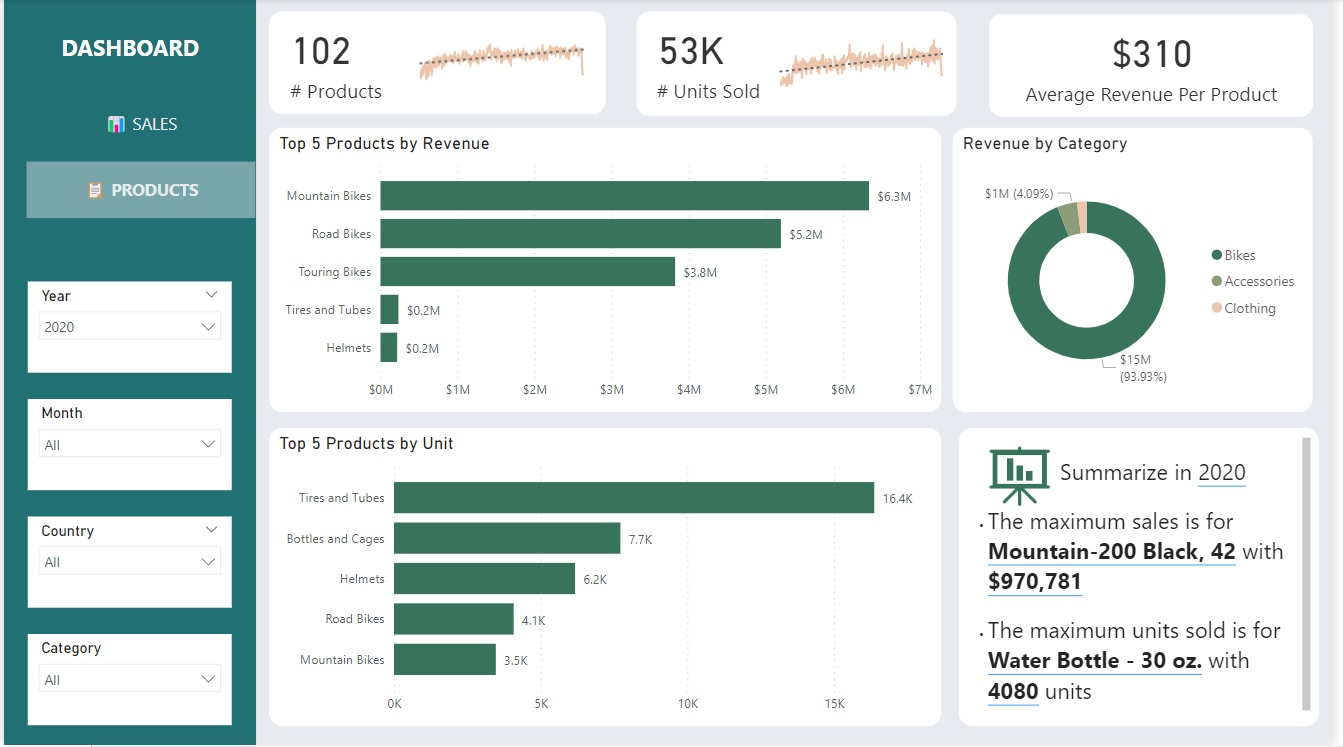

The dashboard page shown, as its layout file describes it:
{"tool":"powerbi","page":{"name":"📋  PRODUCTS","canvas":[1280,720],"ordinal":1},"visuals":[{"type":"shape","box":[0,0,242.9,720.4],"z":0},{"type":"advanceCardE03760C5AB684758B56AA29F9E6C257B","fields":{"mainMeasure":["0_Measure.NOProduct"]},"box":[255.2,12.1,325.1,99.4],"z":0,"group":"g2"},{"type":"advanceCardE03760C5AB684758B56AA29F9E6C257B","fields":{"mainMeasure":["0_Measure.Unitsold"]},"box":[610.2,12.1,309,100.8],"z":0,"group":"g1"},{"type":"advanceCardE03760C5AB684758B56AA29F9E6C257B","fields":{"mainMeasure":["0_Measure.AVG Rev per Pro"]},"box":[949.8,14.8,313,99.4],"z":1000},{"type":"lineChart","fields":{"Y":["0_Measure.Unitsold"],"Category":["DimCalendar.Date.Variation.Date Hierarchy.Year","DimCalendar.Date.Variation.Date Hierarchy.Quarter","DimCalendar.Date.Variation.Date Hierarchy.Month","DimCalendar.Date.Variation.Date Hierarchy.Day"]},"box":[734.1,18.8,185.5,74.9],"z":1000,"group":"g1"},{"type":"lineChart","fields":{"Category":["DimCalendar.Date.Variation.Date Hierarchy.Year","DimCalendar.Date.Variation.Date Hierarchy.Quarter","DimCalendar.Date.Variation.Date Hierarchy.Month","DimCalendar.Date.Variation.Date Hierarchy.Day"],"Y":["0_Measure.NOProduct"]},"box":[386.9,22.8,186.7,71.2],"z":1000,"group":"g2"},{"type":"slicer","fields":{"Values":["DimCalendar.Year"]},"box":[22.6,272.6,196.6,88],"z":2000},{"type":"slicer","fields":{"Values":["DimMonth.MonthShort"]},"box":[22.6,385.9,196.6,88],"z":3000},{"type":"slicer","fields":{"Values":["DimCustomer.Country"]},"box":[22.6,499.3,196.6,88],"z":4000},{"type":"slicer","fields":{"Values":["DimCategory.Category"]},"box":[22.6,612.7,196.6,88],"z":5000},{"type":"pageNavigator","box":[22.3,93.2,221.2,118.3],"z":6000},{"type":"textbox","box":[9.6,26.5,224.3,47],"z":7000},{"type":"textbox","box":[920.9,413.6,347.2,287.7],"z":8000,"group":"g3"},{"type":"donutChart","title":"Revenue by Category","fields":{"Y":["0_Measure.Revenue"],"Category":["DimCategory.Category"]},"box":[915.7,124.3,347.2,274],"z":9000},{"type":"barChart","title":"Top 5 Products by Revenue","fields":{"Y":["0_Measure.Revenue"],"Category":["DimSub_Category.Sub Category"]},"box":[255.3,124.3,648.5,274],"z":10000},{"type":"group","id":"g1","title":"Group 1","box":[610.2,12.1,309.4,100.8],"z":11000},{"type":"group","id":"g2","title":"Group 2","box":[255.2,12.1,325.1,99.4],"z":12000},{"type":"barChart","title":"Top 5 Products by Unit","fields":{"Category":["DimSub_Category.Sub Category"],"Y":["0_Measure.Unitsold"]},"box":[255.3,413.6,648.5,287.7],"z":13000},{"type":"image","box":[937.9,413.6,83.4,91.9],"z":14000,"group":"g3"},{"type":"group","id":"g3","title":"Group 3","box":[920.9,413.6,347.2,287.7],"z":14001}]}

Visuals, with their boxes in screenshot pixels (x1, y1, x2, y2), scaled from the page's 1280x720 canvas onto the 1343x747 screenshot:
shape: box=[0, 0, 255, 746]
advanceCardE03760C5AB684758B56AA29F9E6C257B - 0_Measure.NOProduct: box=[268, 13, 609, 116]
advanceCardE03760C5AB684758B56AA29F9E6C257B - 0_Measure.Unitsold: box=[640, 13, 964, 117]
advanceCardE03760C5AB684758B56AA29F9E6C257B - 0_Measure.AVG Rev per Pro: box=[997, 15, 1325, 118]
lineChart - 0_Measure.Unitsold x DimCalendar.Date.Variation.Date Hierarchy.Year: box=[770, 20, 965, 97]
lineChart - DimCalendar.Date.Variation.Date Hierarchy.Year x DimCalendar.Date.Variation.Date Hierarchy.Quarter: box=[406, 24, 602, 98]
slicer - DimCalendar.Year: box=[24, 283, 230, 374]
slicer - DimMonth.MonthShort: box=[24, 400, 230, 492]
slicer - DimCustomer.Country: box=[24, 518, 230, 609]
slicer - DimCategory.Category: box=[24, 636, 230, 727]
pageNavigator: box=[23, 97, 255, 219]
textbox: box=[10, 27, 245, 76]
textbox: box=[966, 429, 1331, 728]
"Revenue by Category" donutChart: box=[961, 129, 1325, 413]
"Top 5 Products by Revenue" barChart: box=[268, 129, 948, 413]
"Group 1" group: box=[640, 13, 965, 117]
"Group 2" group: box=[268, 13, 609, 116]
"Top 5 Products by Unit" barChart: box=[268, 429, 948, 728]
image: box=[984, 429, 1072, 524]
"Group 3" group: box=[966, 429, 1331, 728]
